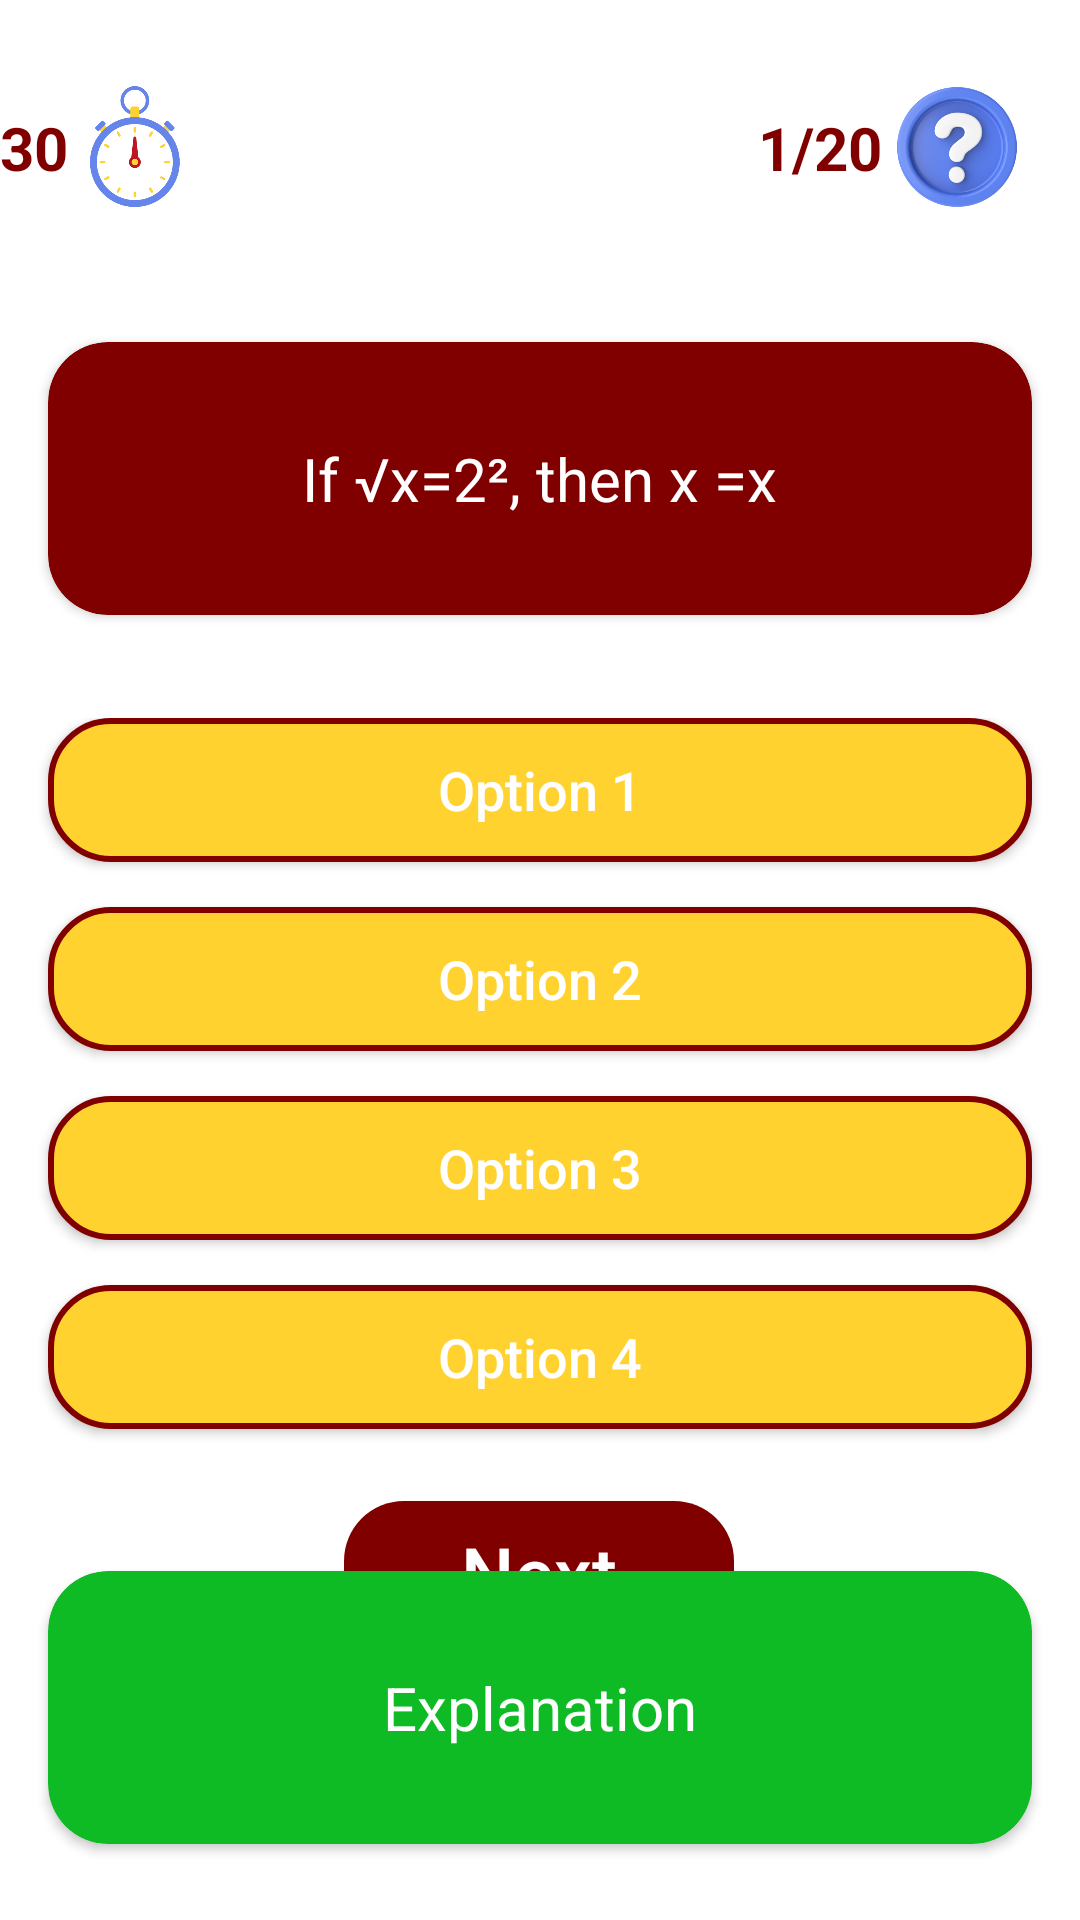

Point at icon controls on the screen. Image size 1080 × 1920, points as point (x, y).
question: point (957, 147)
timewatch: point (135, 146)
